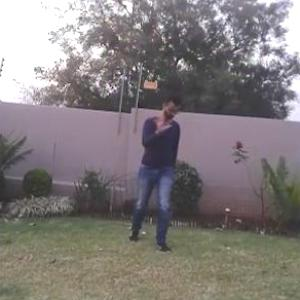follow_hand: (151, 111, 173, 135)
